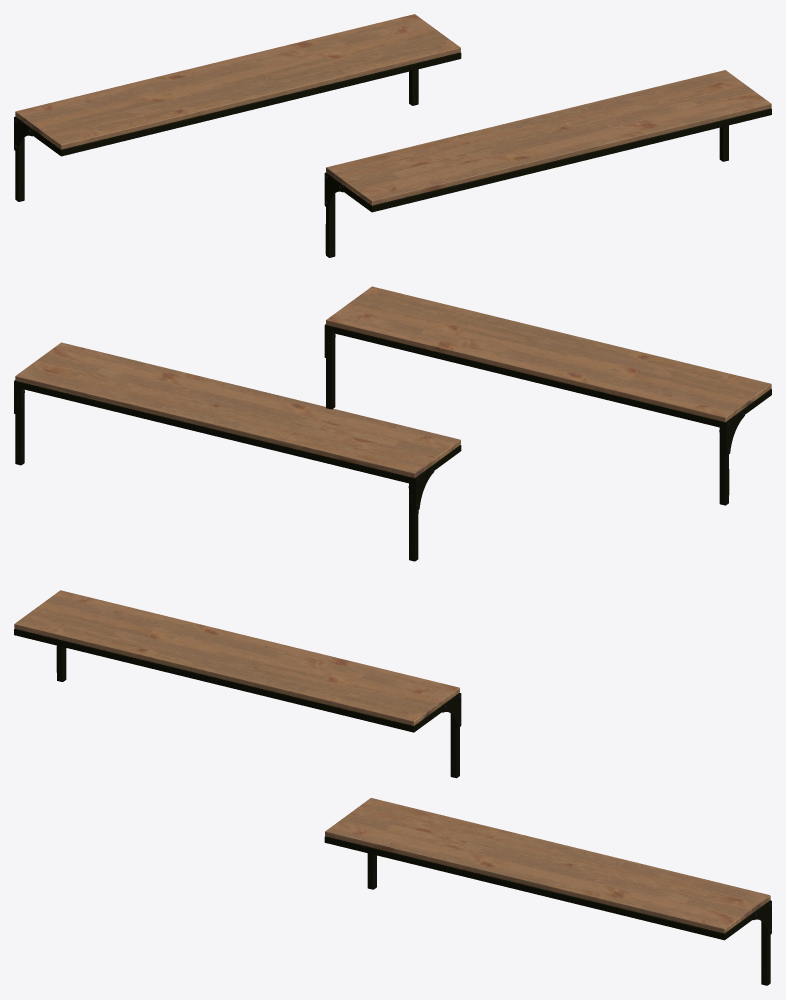
File: fjallbo_poka_scienna_kombinacja_69338546.glb
3 views of the same model, one above another, from view 1: azimuth 30°, elevation 25°; view 2: azimuth 150°, elevation 25°; view 3: azimuth 330°, elevation 25° (orthographic).
Parts seen in each view (by area): view 1: fjallbo_poka_scienna_kombinacja_69338546; view 2: fjallbo_poka_scienna_kombinacja_69338546; view 3: fjallbo_poka_scienna_kombinacja_69338546.
Boxes of the visible parts, left/top/right/bottom form: fjallbo_poka_scienna_kombinacja_69338546: left=14, top=14, right=771, bottom=257; fjallbo_poka_scienna_kombinacja_69338546: left=14, top=286, right=771, bottom=561; fjallbo_poka_scienna_kombinacja_69338546: left=14, top=590, right=771, bottom=985.
Size of the model in its own units: 1.79 by 0.5251 by 0.2.
1 material, 1 textured.
